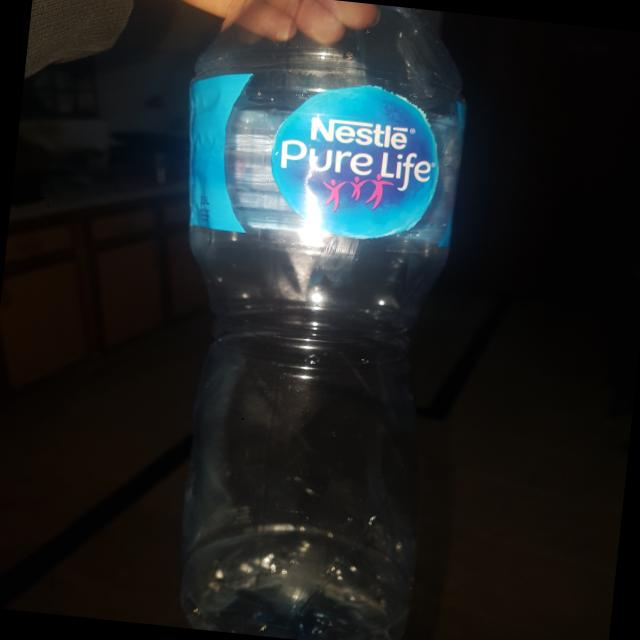general: (130, 0, 479, 640)
